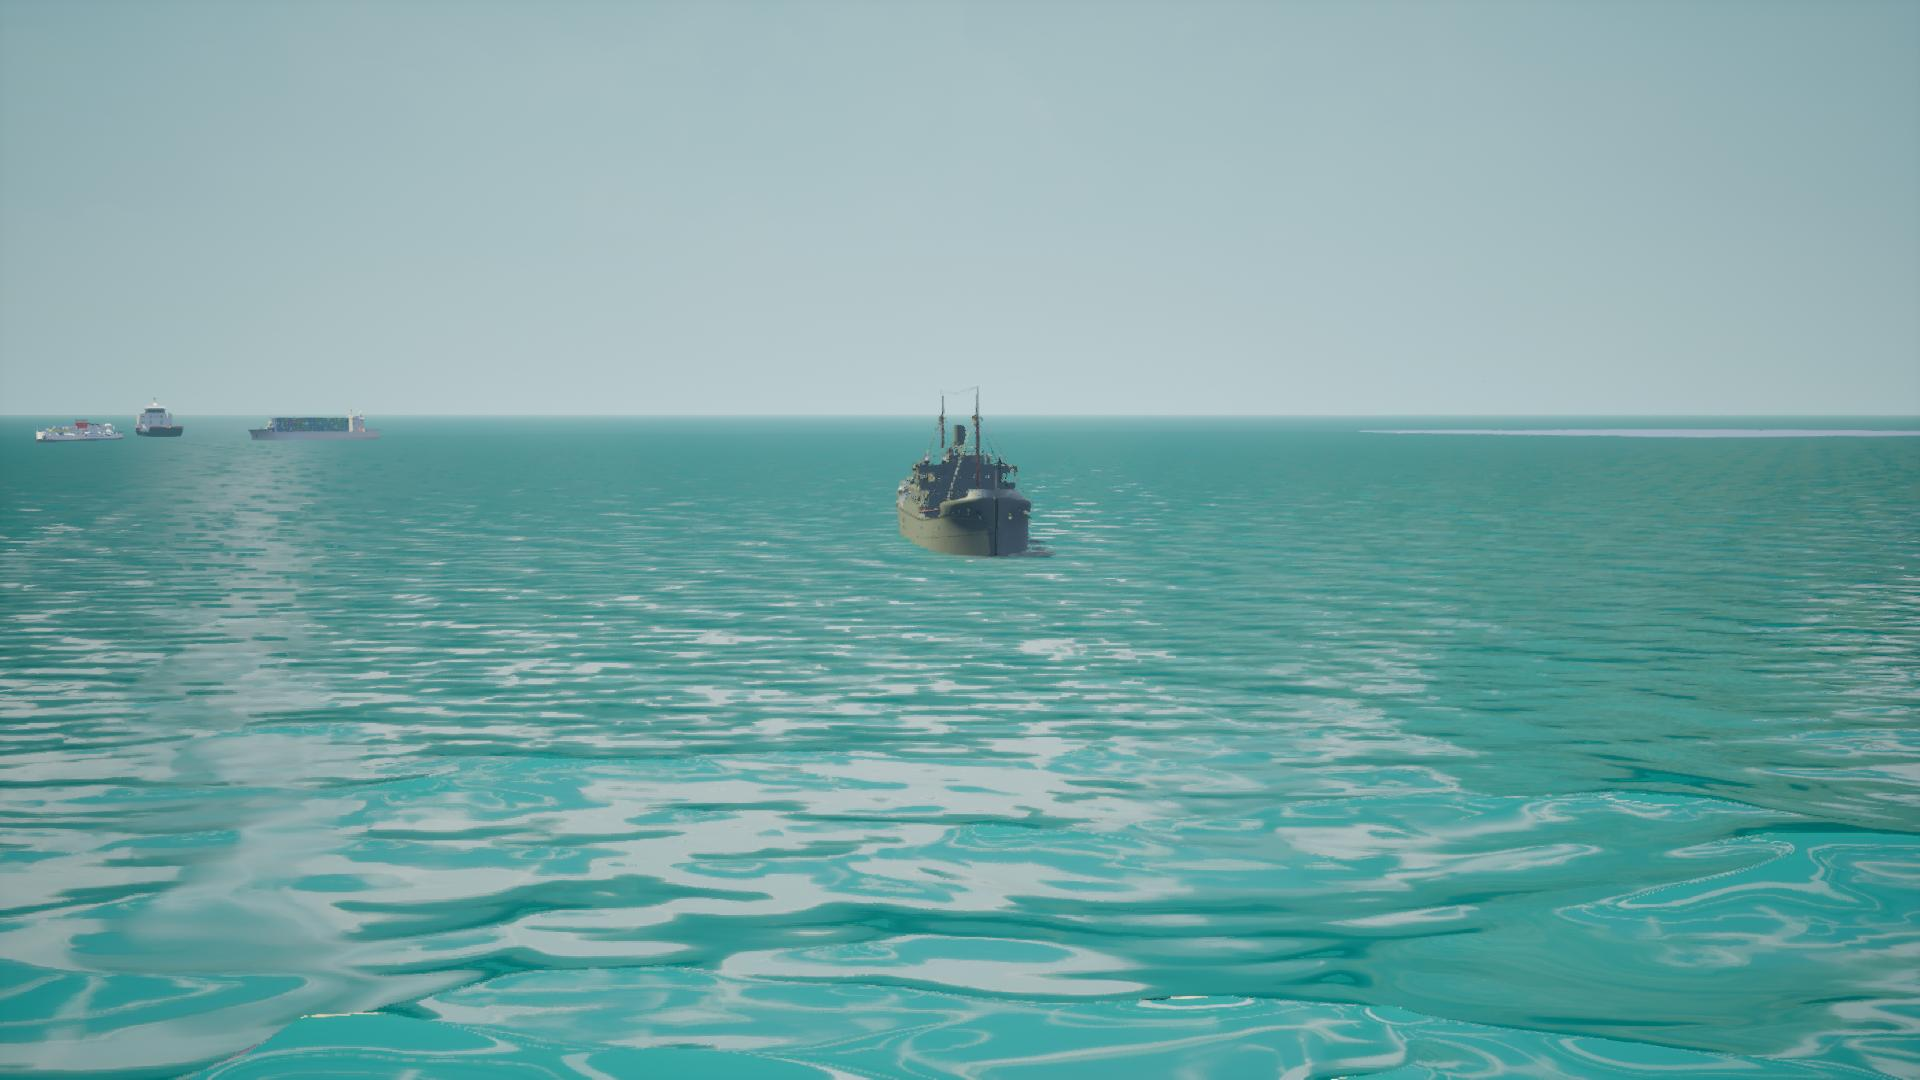Fishing Boat: (893, 388, 1031, 563)
